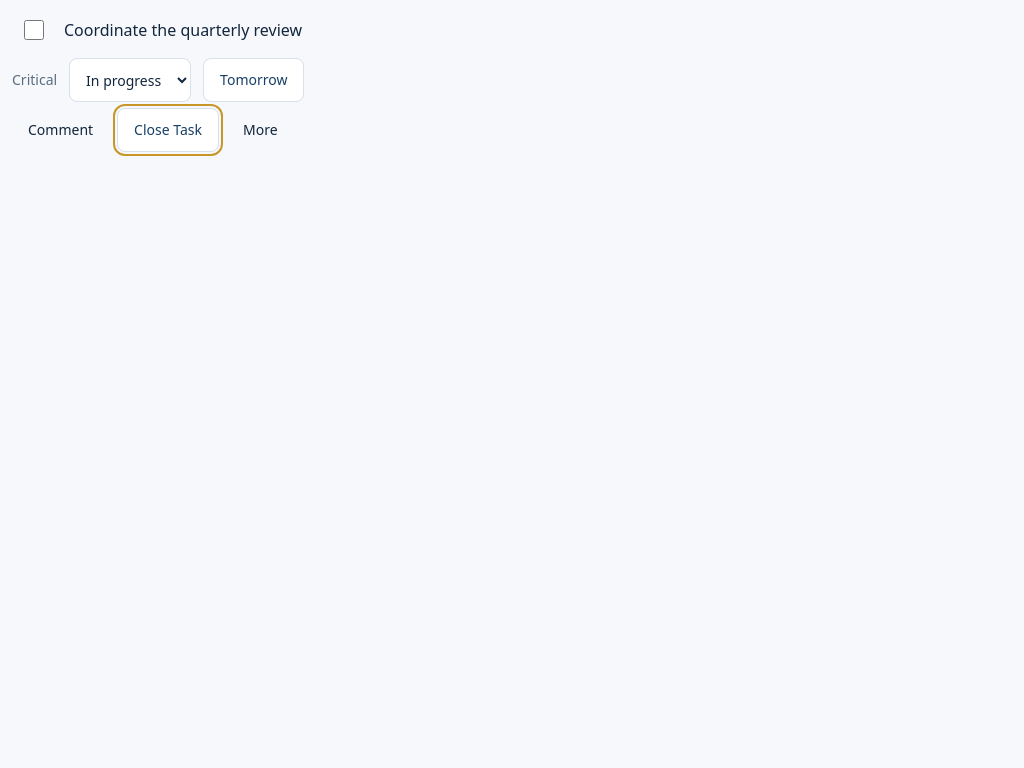
Test: TaskListRow › gives focus back to the row when a confirmed Close empties the control
Click the button with test id "task-close-trigger" at (168, 130), box [117,108,219,152]
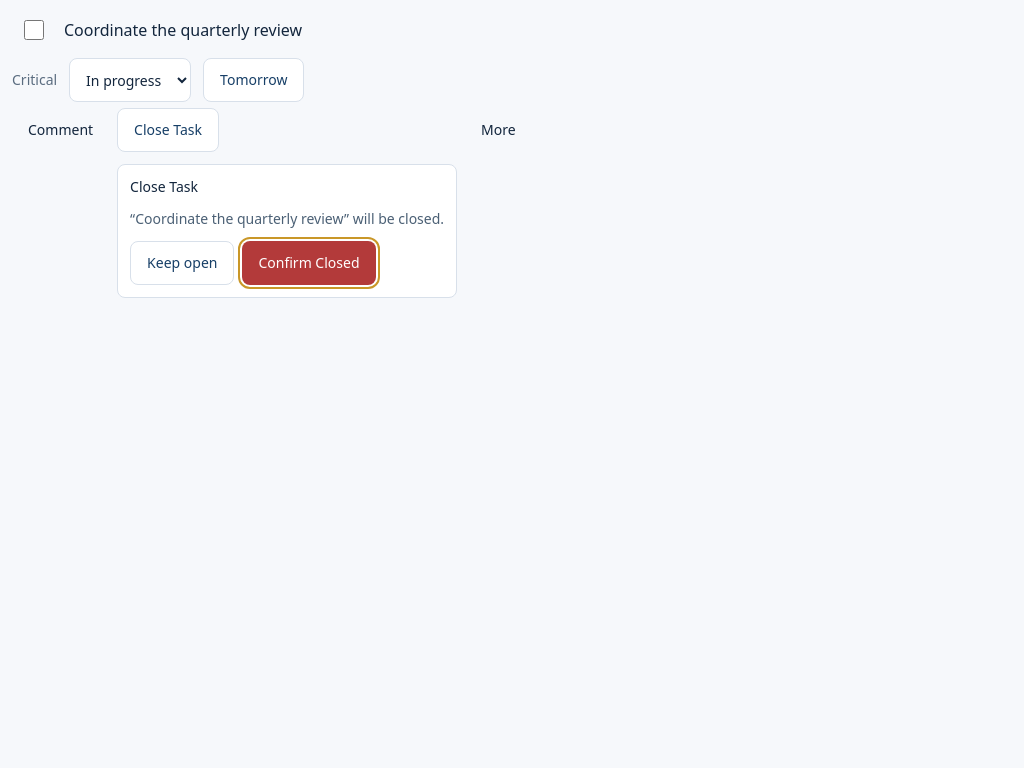
Click the button with test id "task-close-confirm" at (309, 263), box [242,241,376,285]
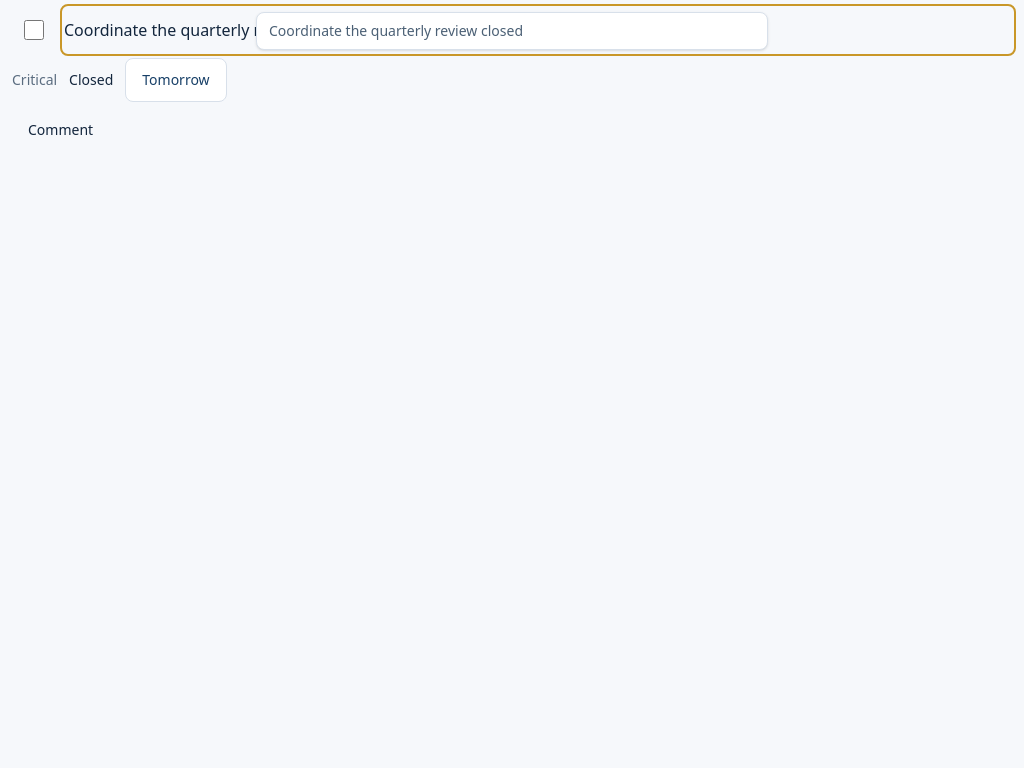
Result: the button with test id "task-close-trigger" is gone
